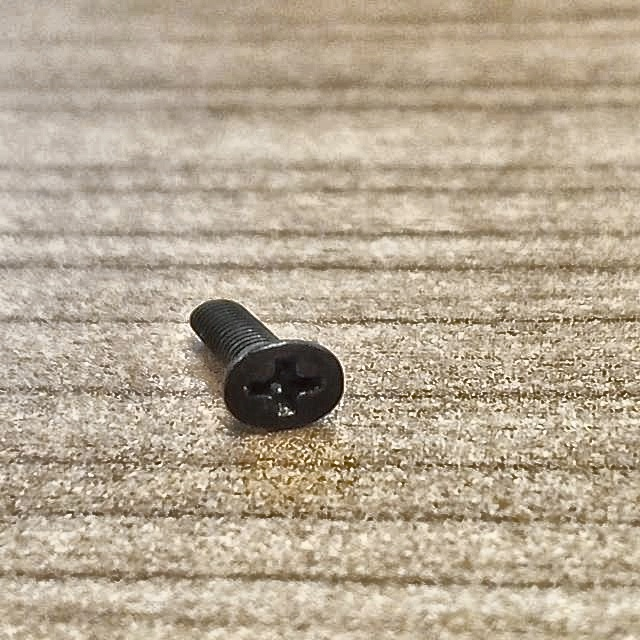phillips: (222, 338, 345, 432)
